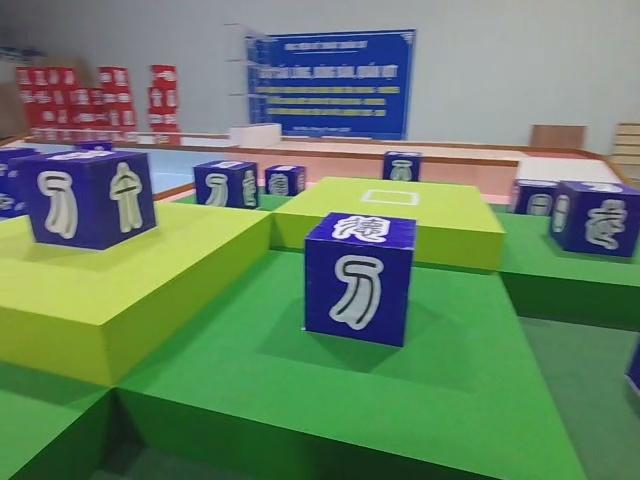R2 Fake Blue: (303, 211, 417, 349), (13, 152, 154, 256), (545, 180, 639, 260), (192, 158, 259, 209), (511, 181, 564, 218), (264, 164, 308, 196), (382, 151, 425, 183)
